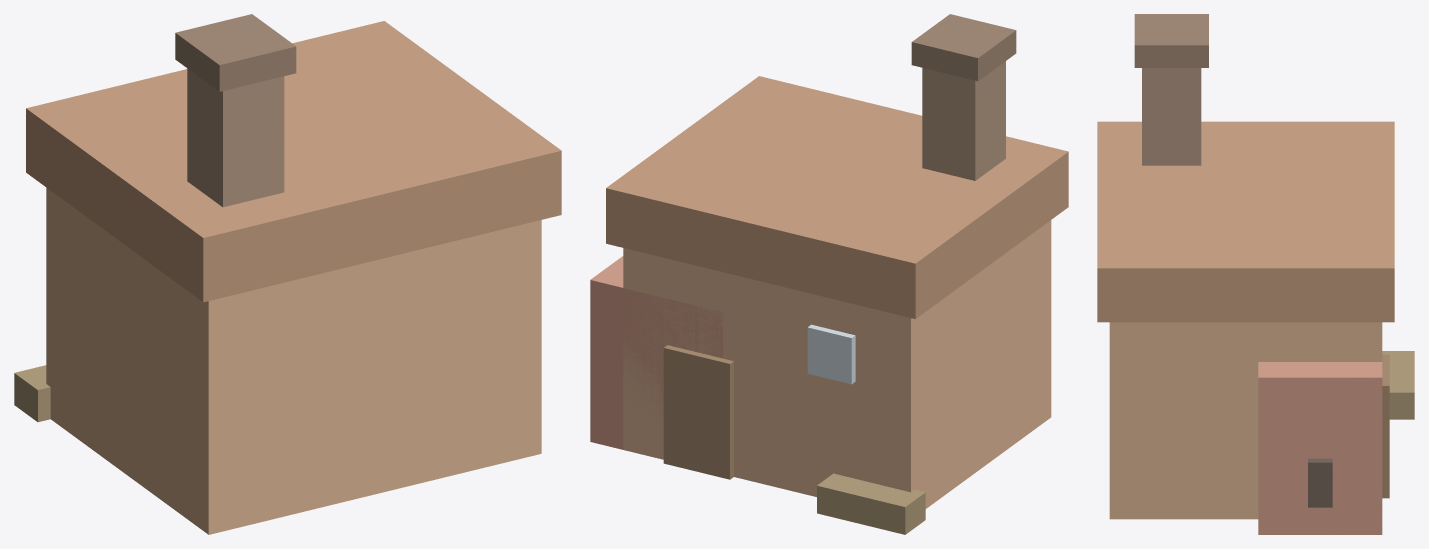
The model's file is bakery.glb.
The picture shows the model from 3 angles, left to right: view 1: azimuth 30°, elevation 25°; view 2: azimuth 150°, elevation 25°; view 3: azimuth 270°, elevation 25°; orthographic projection. The views are drawn at different scales.
Visible parts, largest first — view 1: Bakery; view 2: Bakery; view 3: Bakery.
Part boxes in pixels (x1,y1,x2,y2): Bakery: (14, 14, 561, 534); Bakery: (590, 14, 1068, 534); Bakery: (1097, 14, 1414, 534).
Bounding box in the file's own units: 0.77 × 0.845 × 0.64.
